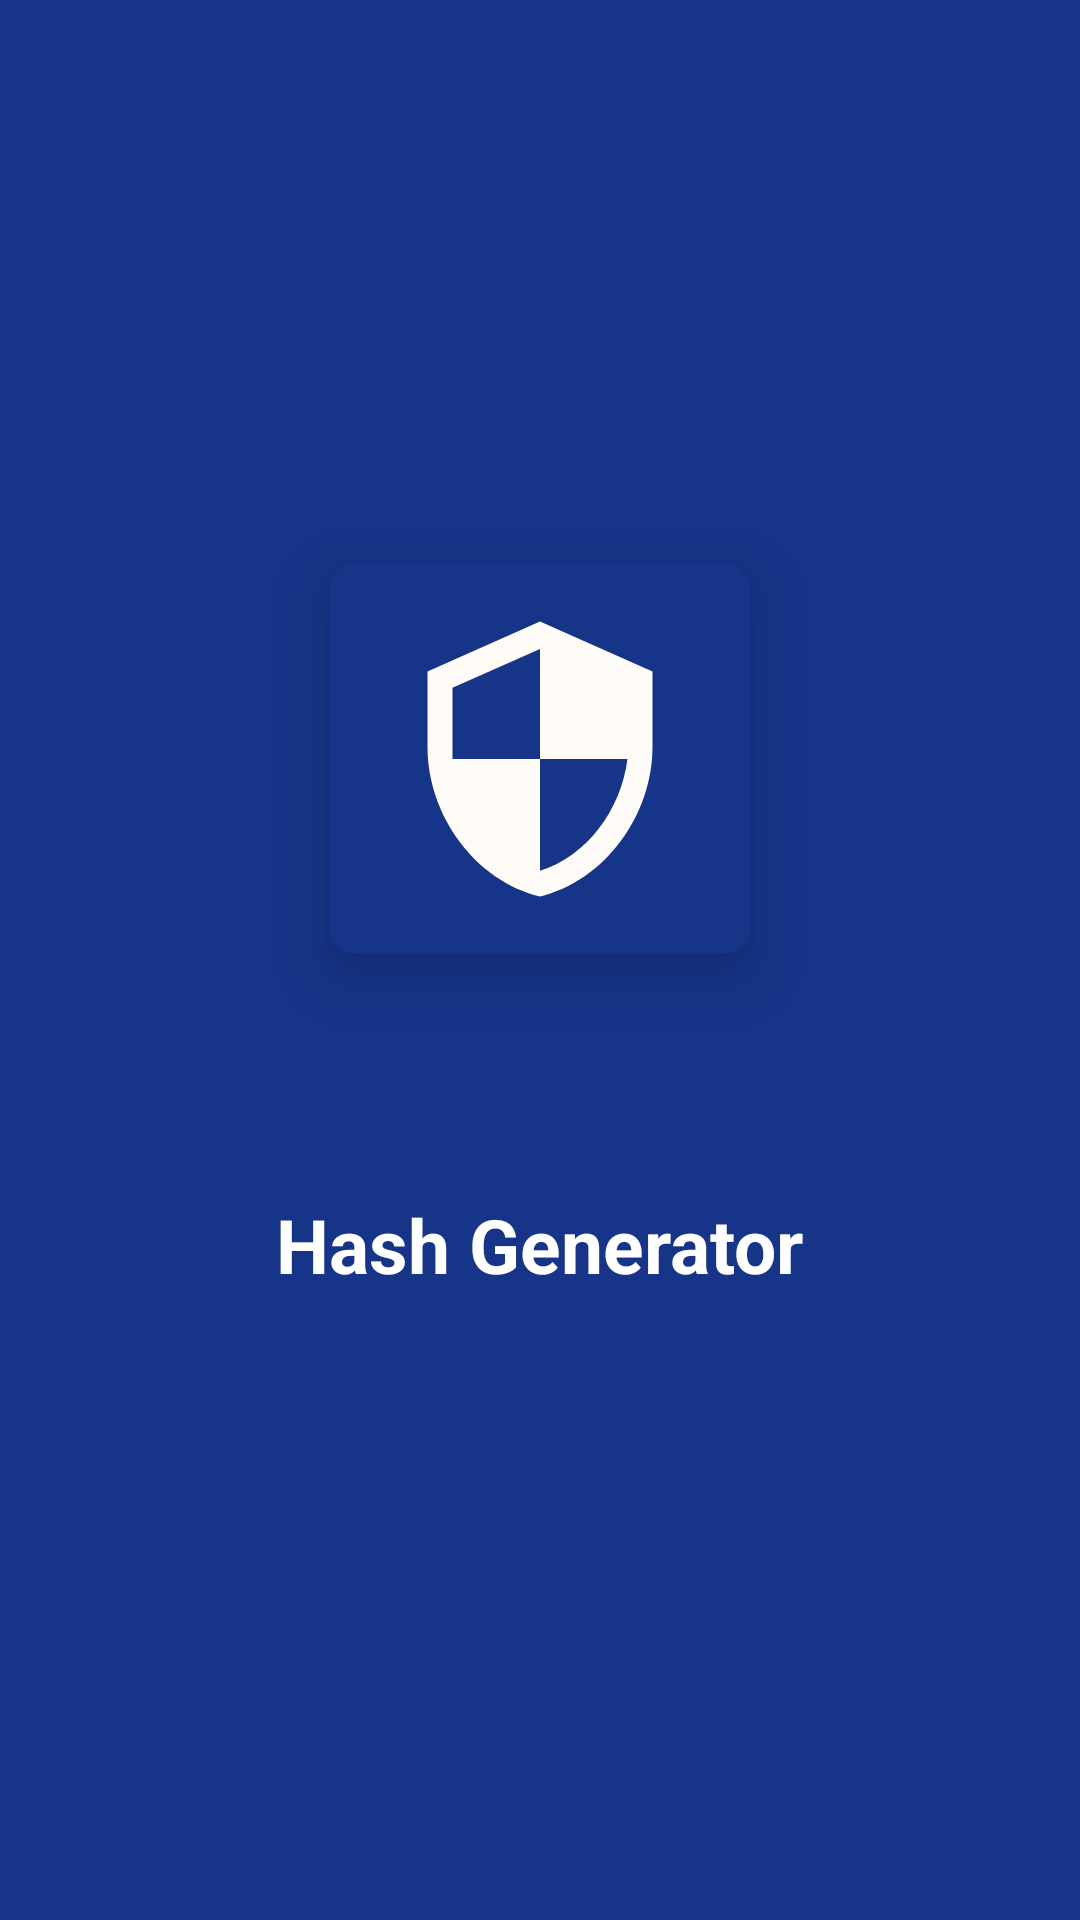

Where to tap for icons on this 1080 x 1920 app screen, as [x,y]:
security: [540,759]
